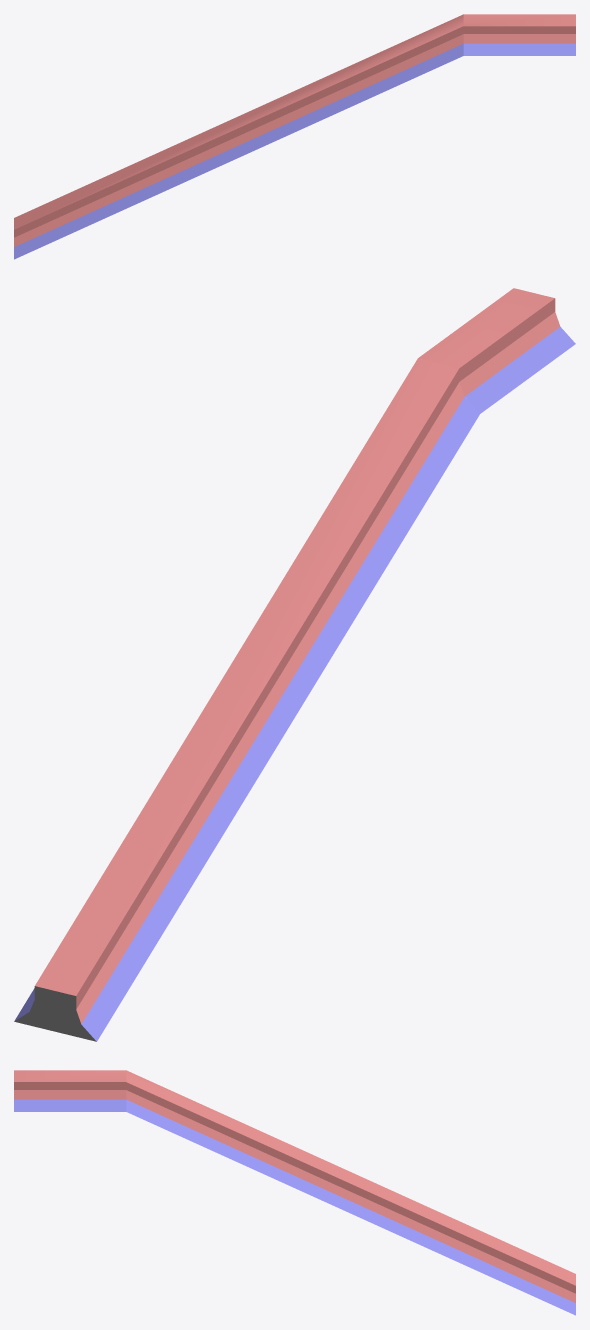
Rendered from altar_ent_02.gltf.
The picture shows the model from 3 angles, top to bottom: view 1: azimuth 90°, elevation 25°; view 2: azimuth 150°, elevation 25°; view 3: azimuth 270°, elevation 25°; orthographic projection. The views are drawn at different scales.
Parts seen in each view (by area): view 1: altar_ent_02; view 2: altar_ent_02; view 3: altar_ent_02.
Boxes of the visible parts, <box> form: altar_ent_02: <box>14,14,575,259</box>; altar_ent_02: <box>14,288,575,1041</box>; altar_ent_02: <box>14,1070,575,1315</box>.
Bounding box in the file's own units: 0.64 × 2.86 × 6.4.
